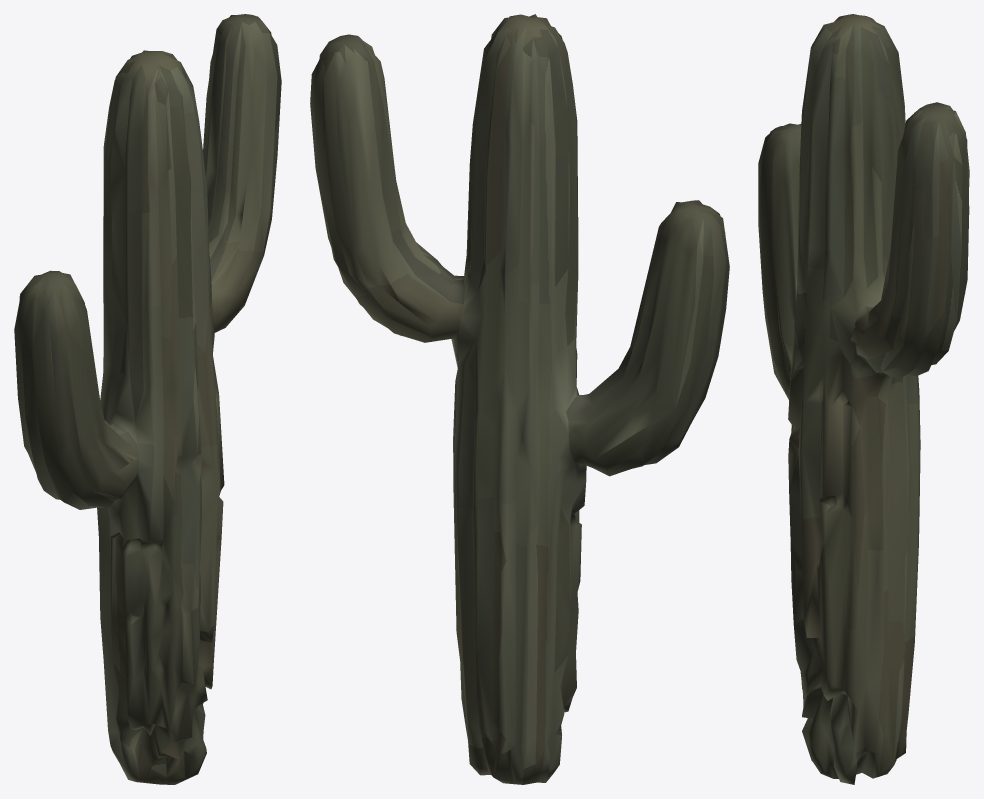
The model's file is saguaro_mid.glb.
The picture shows the model from 3 angles, left to right: view 1: azimuth 30°, elevation 25°; view 2: azimuth 150°, elevation 25°; view 3: azimuth 270°, elevation 25°; orthographic projection. The views are drawn at different scales.
Visible parts, largest first — view 1: LO.001; view 2: LO.001; view 3: LO.001.
Boxes of the visible parts, left/top/right/bottom form: LO.001: left=14, top=14, right=281, bottom=784; LO.001: left=310, top=14, right=729, bottom=784; LO.001: left=758, top=14, right=969, bottom=784.
Bounding box in the file's own units: 2.34 × 4.99 × 1.28.
Materials: 1 (1 with a texture image).
